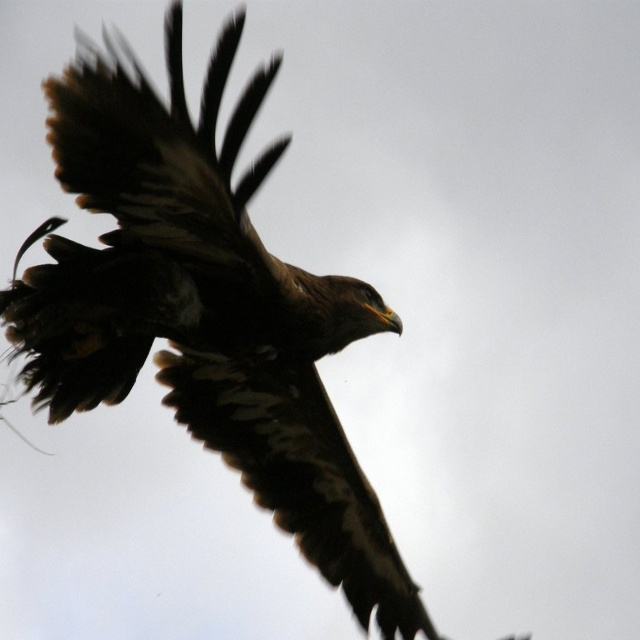Eagle: (0, 0, 447, 639)
